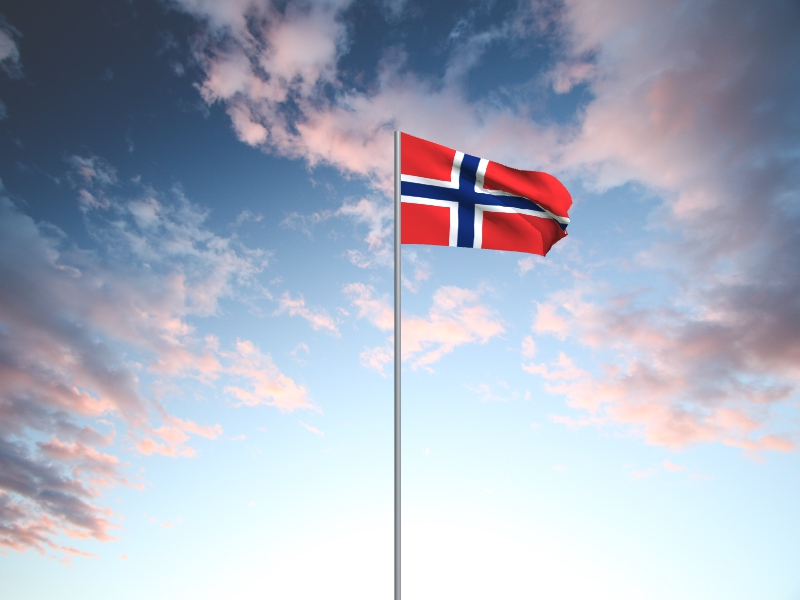no: (402, 133, 573, 258)
